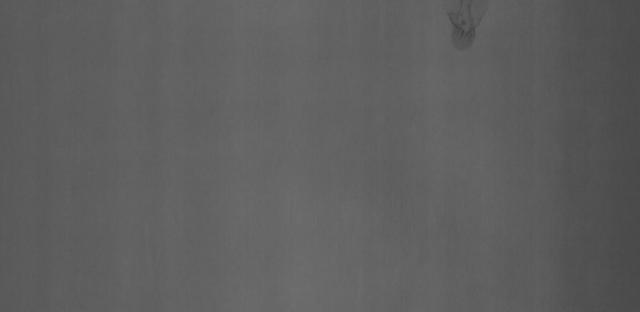water_spot: (432, 0, 489, 55)
